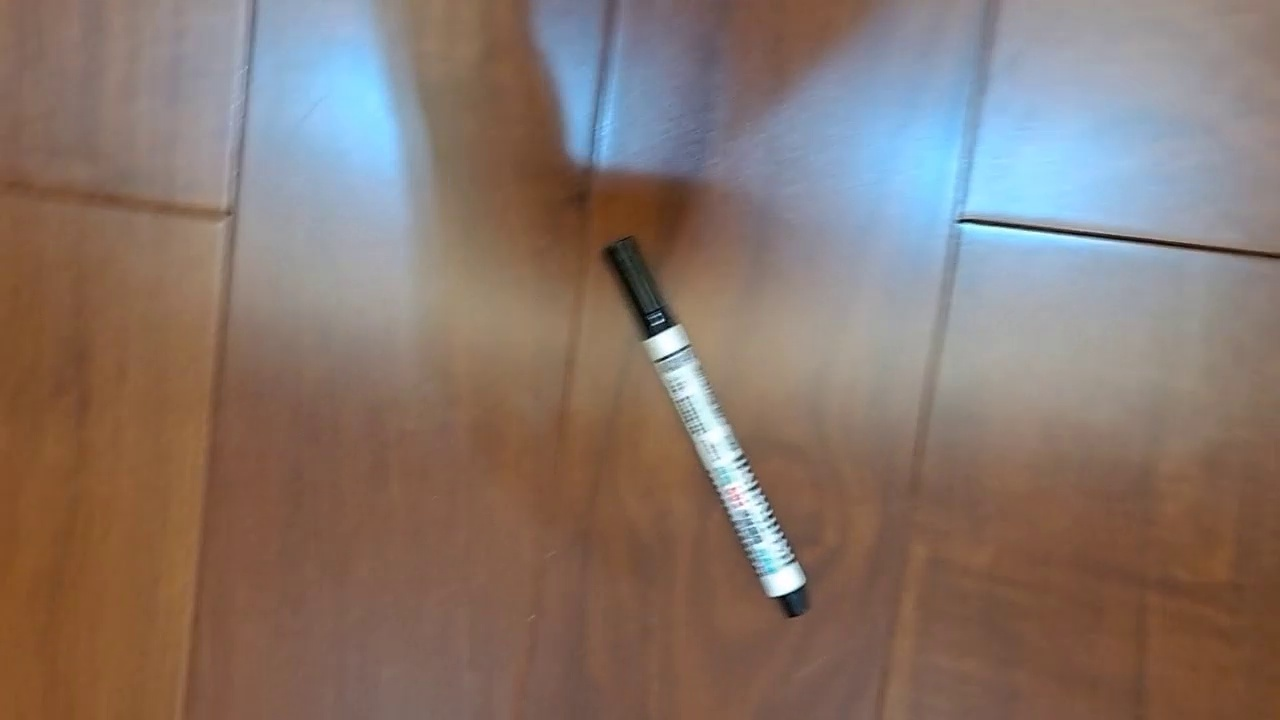pen: (600, 233, 813, 621)
